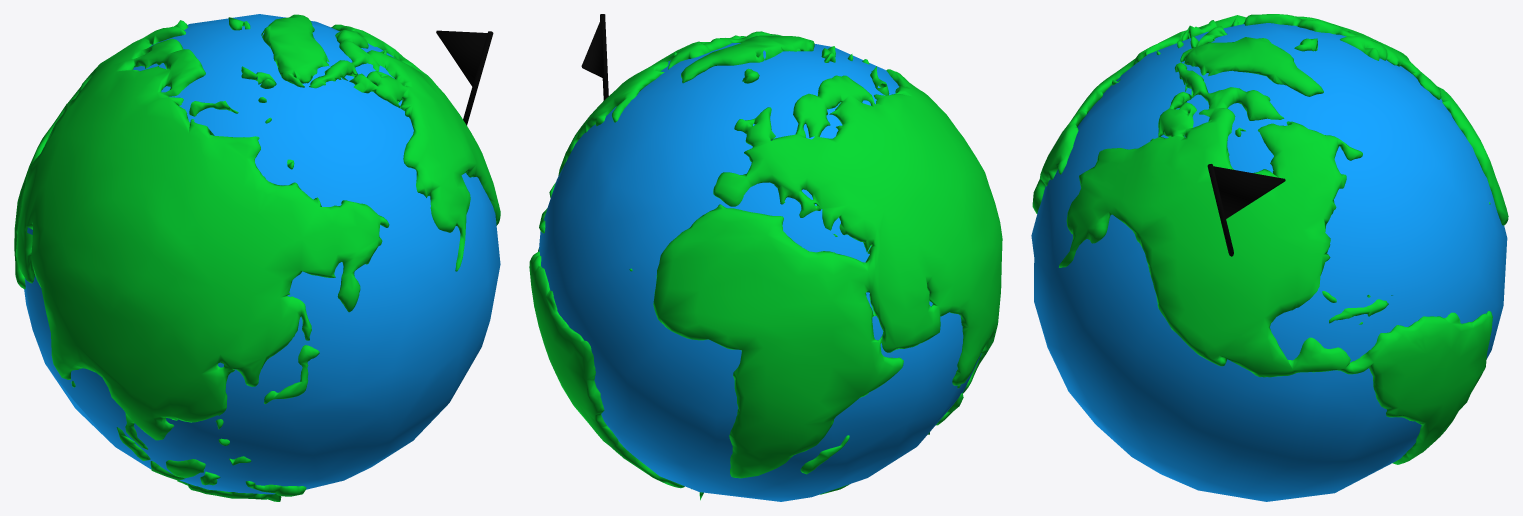
File: earth-modified.glb
The picture shows the model from 3 angles, left to right: view 1: azimuth 30°, elevation 25°; view 2: azimuth 150°, elevation 25°; view 3: azimuth 270°, elevation 25°; orthographic projection. The views are drawn at different scales.
Parts seen in each view (by area): view 1: flagpole.011, flagpole.001, flagpole.014, flagpole.010, flagpole.012, flagpole; view 2: flagpole.011, flagpole.001, flagpole.014, flagpole.010; view 3: flagpole.001, flagpole.014, flagpole.011, flagpole.010, flagpole.
Boxes of the visible parts, x1,y1,x2,y2 form: flagpole.011: (14,20,389,485); flagpole.001: (24,14,500,494); flagpole.014: (261,14,500,271); flagpole.010: (436,30,487,86); flagpole.012: (177,480,306,501); flagpole: (463,31,493,125); flagpole.011: (653,66,1002,478); flagpole.001: (538,43,981,501); flagpole.014: (529,31,814,500); flagpole.010: (581,17,604,78); flagpole.001: (1031,23,1507,501); flagpole.014: (1059,37,1492,464); flagpole.011: (1032,14,1508,225); flagpole.010: (1213,166,1285,218); flagpole: (1207,164,1233,256).
Size of the model in its own units: 3.37 by 3.4 by 3.29.
